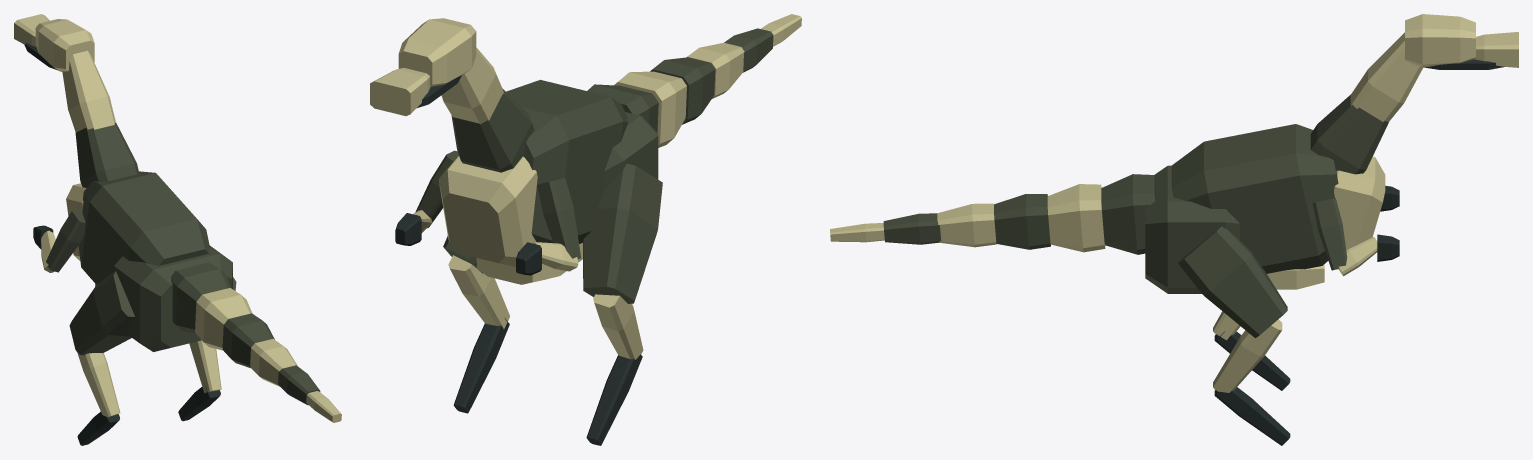
Rendered from Reedrunner__LOD1.gltf.
The picture shows the model from 3 angles, left to right: view 1: azimuth 30°, elevation 25°; view 2: azimuth 150°, elevation 25°; view 3: azimuth 270°, elevation 25°; orthographic projection. The views are drawn at different scales.
Visible parts, largest first — view 1: Root, Hindleg-1, Head, UpperNeck, Neck, Tail0, Tail1, Forelimb-1, Tail2, Hindleg-1_Knee, Tail3, Hindleg1_Knee (+4 smaller); view 2: Root, Hindleg-1, Head, Neck, Forelimb-1, UpperNeck, Tail1, Hindleg1_Knee, Hindleg-1_Knee, Hindleg1_Ankle, Hindleg-1_Ankle, Tail2 (+5 smaller); view 3: Root, Hindleg1, Head, Neck, Tail0, Tail1, UpperNeck, Forelimb1, Tail2, Tail3, Hindleg1_Knee, Hindleg1_Ankle (+3 smaller).
Part boxes in pixels (<box>): Root: <box>66,171,232,351</box>; Hindleg-1: <box>69,271,134,355</box>; Head: <box>14,14,94,71</box>; UpperNeck: <box>62,50,115,132</box>; Neck: <box>75,123,138,187</box>; Tail0: <box>171,262,230,333</box>; Tail1: <box>195,288,252,350</box>; Forelimb-1: <box>33,210,85,272</box>; Tail2: <box>222,313,274,368</box>; Hindleg-1_Knee: <box>77,352,120,417</box>; Tail3: <box>250,338,297,386</box>; Hindleg1_Knee: <box>189,340,221,393</box>; Root: <box>438,79,658,284</box>; Hindleg-1: <box>583,163,662,303</box>; Head: <box>370,18,476,115</box>; Neck: <box>451,88,534,172</box>; Forelimb-1: <box>516,177,581,275</box>; UpperNeck: <box>441,47,504,124</box>; Tail1: <box>614,71,686,147</box>; Hindleg1_Knee: <box>448,255,509,329</box>; Hindleg-1_Knee: <box>593,294,643,359</box>; Hindleg1_Ankle: <box>453,318,509,413</box>; Hindleg-1_Ankle: <box>586,354,642,445</box>; Tail2: <box>650,57,715,124</box>; Root: <box>1145,124,1385,293</box>; Hindleg1: <box>1178,226,1287,338</box>; Head: <box>1405,14,1518,69</box>; Neck: <box>1310,94,1388,174</box>; Tail0: <box>1101,174,1155,254</box>; Tail1: <box>1047,184,1105,252</box>; UpperNeck: <box>1350,32,1423,121</box>; Forelimb1: <box>1312,198,1399,276</box>; Tail2: <box>994,194,1050,249</box>; Tail3: <box>937,203,996,247</box>; Hindleg1_Knee: <box>1213,319,1282,392</box>; Hindleg1_Ankle: <box>1214,387,1290,445</box>.
Bounding box in the file's own units: 1.77 × 4.29 × 6.77.
Materials: 1 (1 with a texture image).
